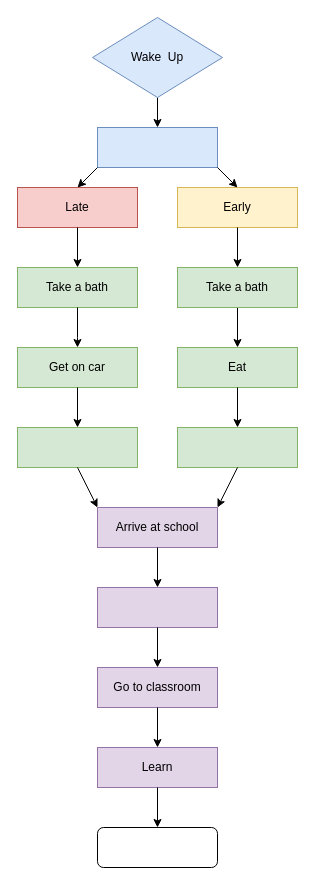
The diagram is 315 pixels wide and 885 high, and some of its shapes have lost their labels. The shapes that lost their labels are listed below. From the top down, each one's centre as x and y in pixels, then its label:
At point (157, 147): "Check Time".
At point (77, 447): "Eat food on car".
At point (237, 447): "Get in car".
At point (157, 607): "Go up elevator".
At point (157, 847): "End".
